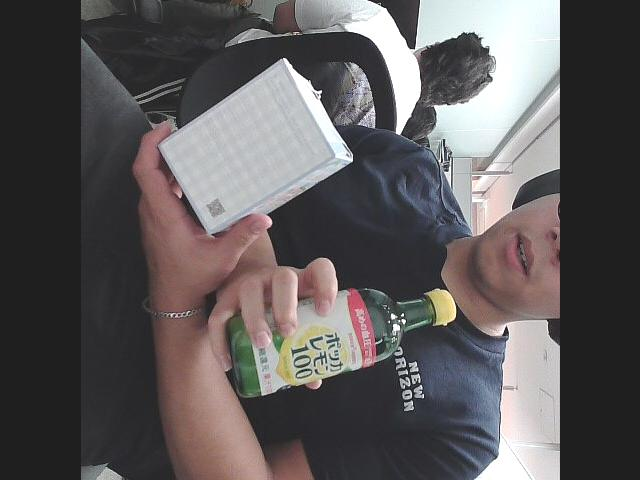Blind_box: (155, 63, 349, 241)
Lemon_sapporo: (232, 282, 459, 402)
